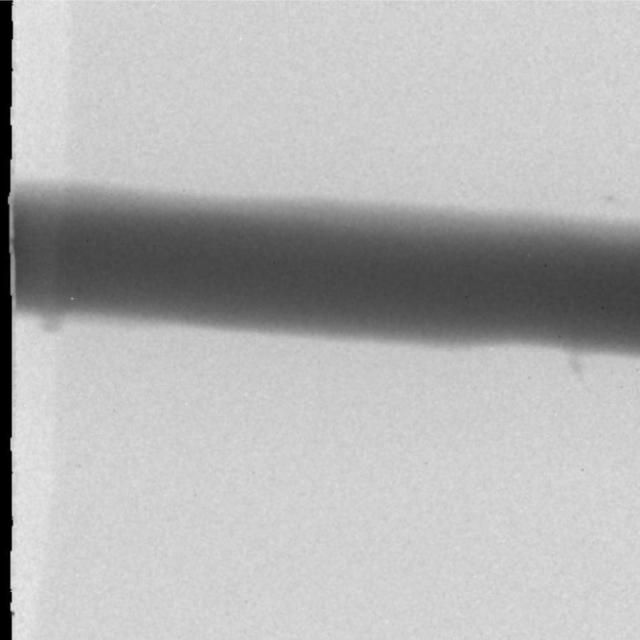overlap: (563, 345, 585, 374), (37, 307, 62, 332)
